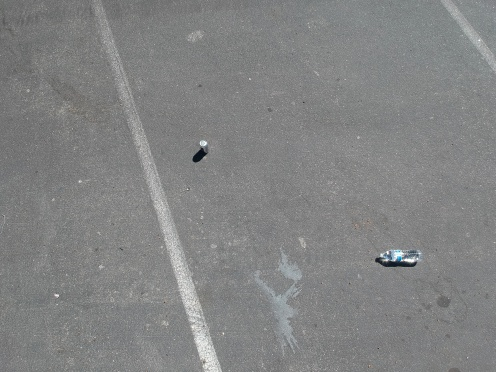bottle: (369, 247, 425, 269)
can: (196, 138, 212, 156)
